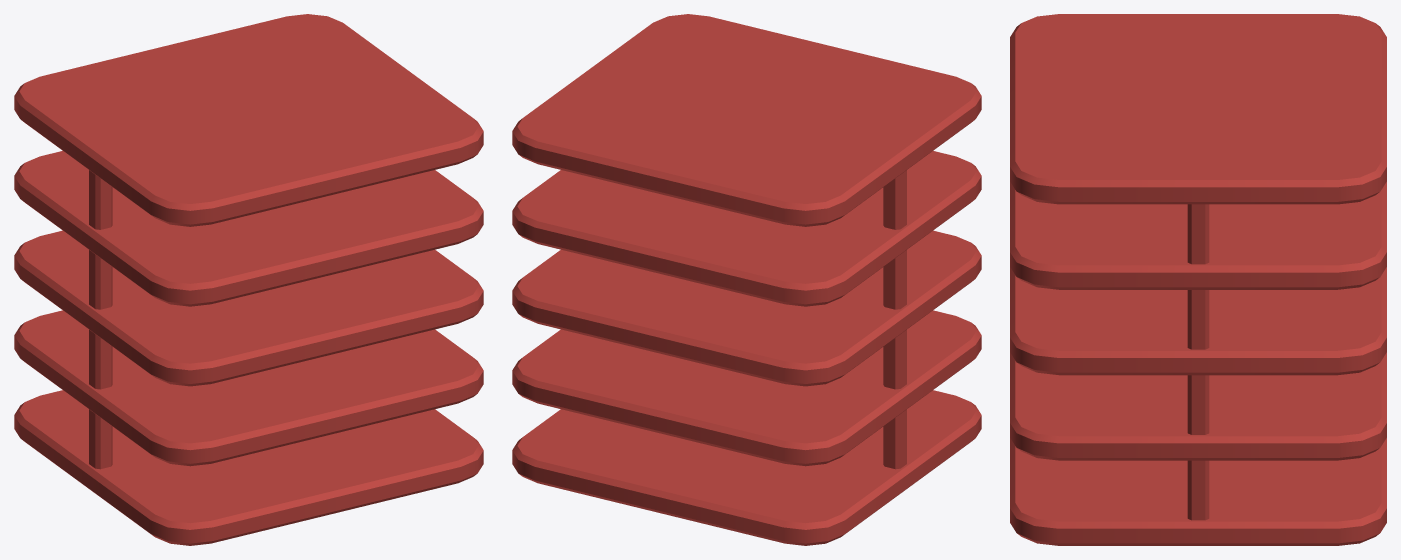
The model's file is fins.glb.
3 views of the same model, side by side, from view 1: azimuth 30°, elevation 25°; view 2: azimuth 150°, elevation 25°; view 3: azimuth 270°, elevation 25° (orthographic). The views are drawn at different scales.
Visible parts, largest first — view 1: fins; view 2: fins; view 3: fins.
Part boxes in pixels (box(x1,y1,x2,y2)): fins: box(14, 14, 483, 545); fins: box(512, 14, 981, 545); fins: box(1010, 14, 1386, 545).
Bounding box in the file's own units: 0.15 × 0.15 × 0.14.
